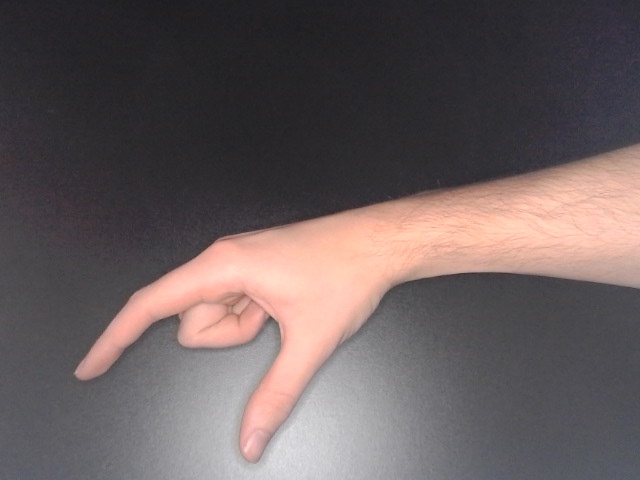q: (68, 193, 459, 468)
